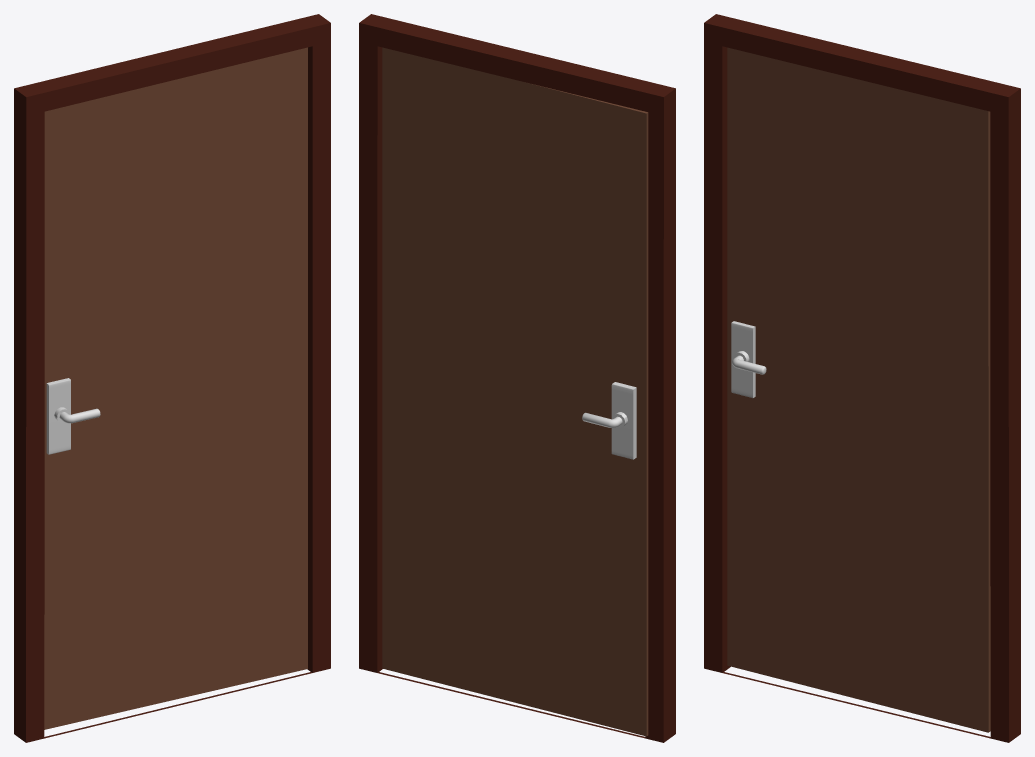
File: fixFixDoor.fbx
3 renders of one model, left to right at view 1: azimuth 30°, elevation 25°; view 2: azimuth 150°, elevation 25°; view 3: azimuth 330°, elevation 25°, orthographic.
Parts seen in each view (by area): view 1: Plane_005, drzwiofficial__1_, Cube_056; view 2: Plane_005, drzwiofficial__1_, Cube_030; view 3: Plane_005, drzwiofficial__1_, Cube_056.
Boxes of the visible parts, x1=… form: Plane_005: x1=44, y1=47, x2=307, y2=729; drzwiofficial__1_: x1=14, y1=14, x2=330, y2=742; Cube_056: x1=46, y1=378, x2=70, y2=454; Plane_005: x1=382, y1=47, x2=648, y2=736; drzwiofficial__1_: x1=359, y1=14, x2=675, y2=742; Cube_030: x1=611, y1=382, x2=636, y2=459; Plane_005: x1=727, y1=47, x2=990, y2=732; drzwiofficial__1_: x1=704, y1=14, x2=1020, y2=742; Cube_056: x1=731, y1=321, x2=755, y2=397.
Size of the model in its own units: 102 by 206 by 20.19.
